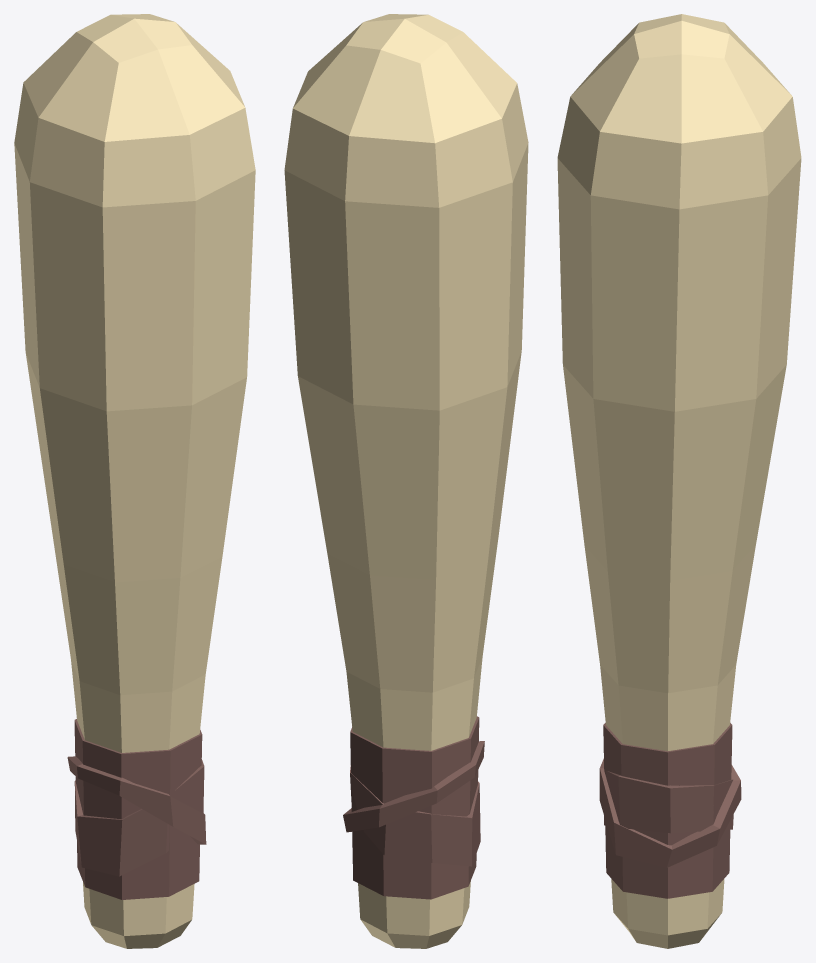
The model's file is Dubina.fbx.
3 views of the same model, side by side, from view 1: azimuth 30°, elevation 25°; view 2: azimuth 150°, elevation 25°; view 3: azimuth 270°, elevation 25° (orthographic).
Visible parts, largest first — view 1: Cube.008; view 2: Cube.008; view 3: Cube.008.
Part boxes in pixels (left/top/right/bottom): Cube.008: left=14, top=14, right=255, bottom=948; Cube.008: left=284, top=14, right=528, bottom=948; Cube.008: left=557, top=14, right=801, bottom=948.
Bounding box in the file's own units: 19.12 × 19.12 × 79.56.
